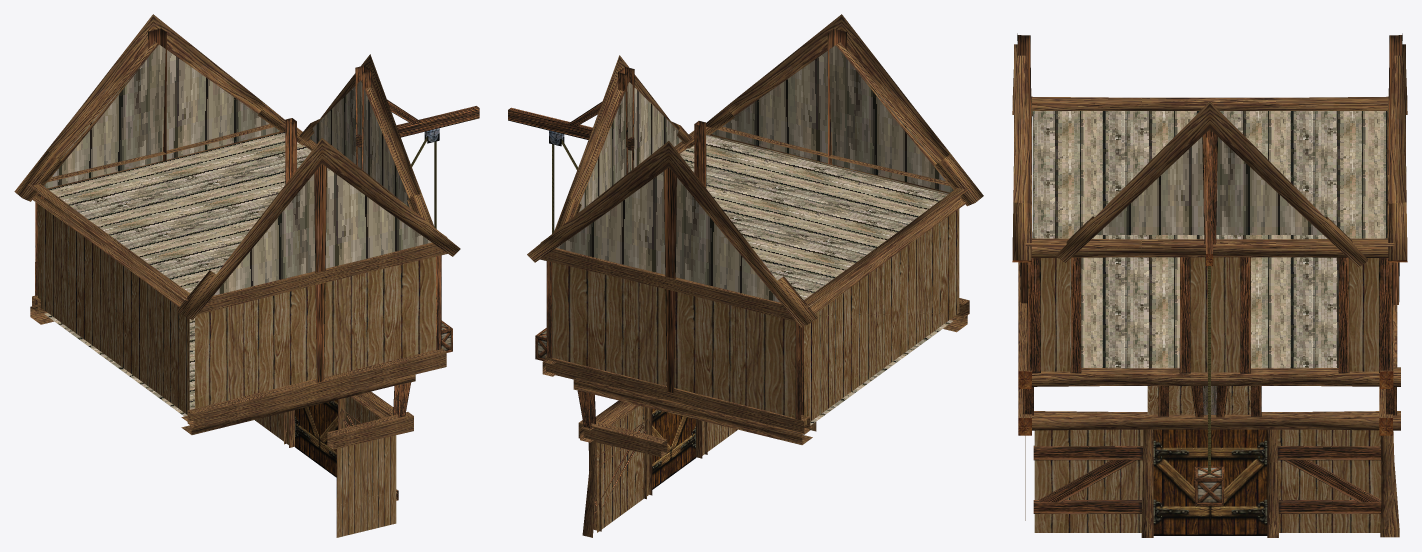
Rendered from LAKETOWN_EXTERIOR_PS_LT_BARN9786__GX.fbx.
The picture shows the model from 3 angles, left to right: view 1: azimuth 30°, elevation 25°; view 2: azimuth 150°, elevation 25°; view 3: azimuth 270°, elevation 25°; orthographic projection. The views are drawn at different scales.
Visible parts, largest first — view 1: LAKETOWN_EXTERIOR_PS_LT_BARN9786__GX; view 2: LAKETOWN_EXTERIOR_PS_LT_BARN9786__GX; view 3: LAKETOWN_EXTERIOR_PS_LT_BARN9786__GX.
Boxes of the visible parts, left/top/right/bottom form: LAKETOWN_EXTERIOR_PS_LT_BARN9786__GX: left=14, top=14, right=479, bottom=537; LAKETOWN_EXTERIOR_PS_LT_BARN9786__GX: left=508, top=14, right=983, bottom=537; LAKETOWN_EXTERIOR_PS_LT_BARN9786__GX: left=1012, top=33, right=1407, bottom=537.
Size of the model in its own units: 111748 by 115622 by 87089.
13 materials, 13 textured.
